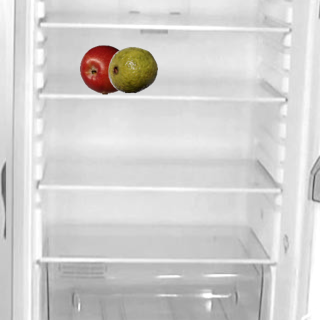Apple Braeburn: (79, 44, 129, 94)
Guava: (107, 44, 157, 94)
